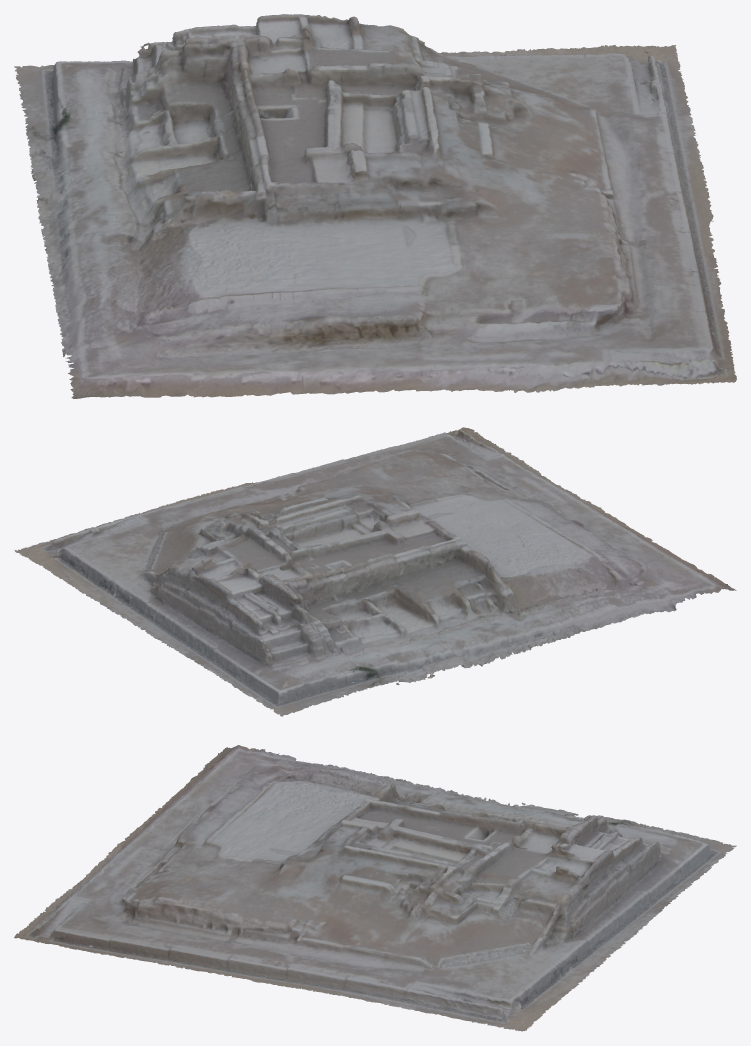
File: HUACA3D.glb
3 views of the same model, one above another, from view 1: azimuth 30°, elevation 25°; view 2: azimuth 150°, elevation 25°; view 3: azimuth 270°, elevation 25° (orthographic). The views are drawn at different scales.
Visible parts, largest first — view 1: Object_3, Object_2, Object_4; view 2: Object_2, Object_3, Object_4; view 3: Object_3, Object_2, Object_4.
Part boxes in pixels (box(x1,y1,x2,y2)): Object_3: box(14, 45, 736, 398); Object_2: box(105, 14, 629, 346); Object_4: box(55, 60, 623, 321); Object_2: box(138, 450, 654, 662); Object_3: box(14, 427, 736, 716); Object_4: box(139, 451, 614, 693); Object_3: box(14, 745, 736, 1031); Object_2: box(126, 770, 660, 968); Object_4: box(153, 776, 708, 963).
Bounding box in the file's own units: 63.14 × 7.5 × 66.54.
Materials: 1 (1 with a texture image).
